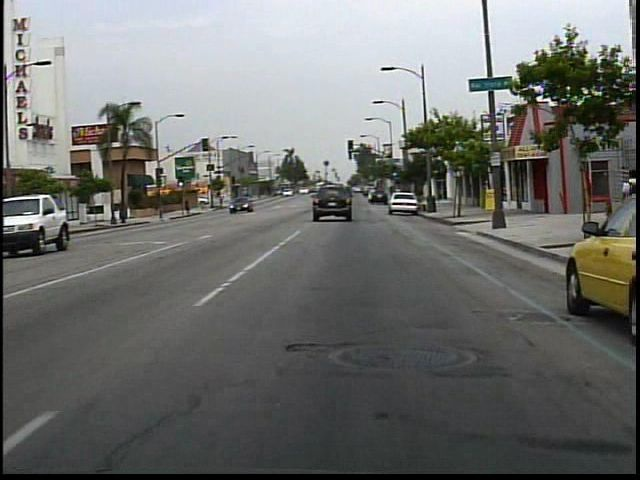person: (612, 162, 637, 209)
